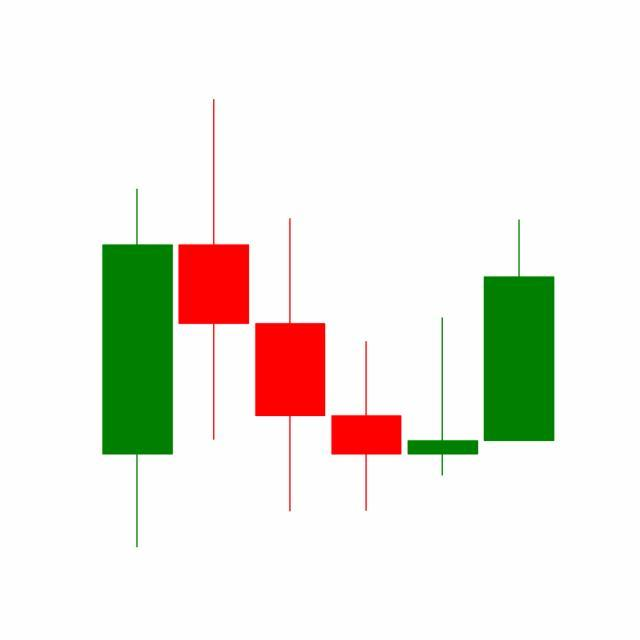Gravestone Doji: (404, 316, 482, 478)
